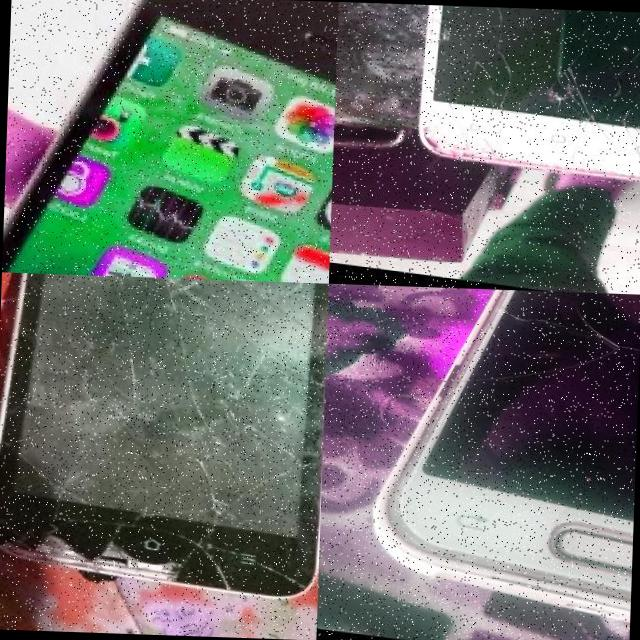screen crack: (0, 271, 328, 601), (408, 3, 605, 188), (469, 287, 640, 437)
